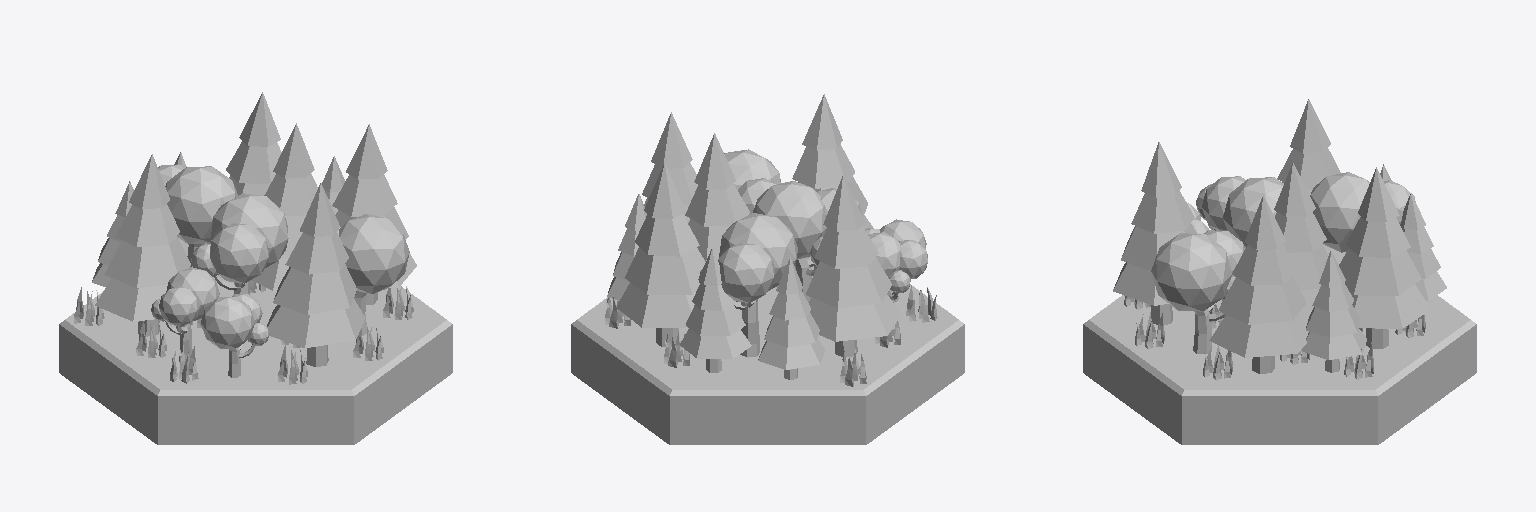
Rendered from forrest3.obj.
The picture shows the model from 3 angles: view 1: azimuth 30°, elevation 25°; view 2: azimuth 150°, elevation 25°; view 3: azimuth 270°, elevation 25°; orthographic projection.
Parts seen in each view (by area): view 1: Forest_Tile, Tree_0_1.002, Tree_0_1.001, Tree_1_1.001, Tree_1_1.002, Tree_1_1, Tree_0_1.003, Tree_0_1.004, Tree_0_1, Tree_1_0.001, Tree_1_0, Tree_0_0.002 (+7 smaller); view 2: Forest_Tile, Tree_0_1.001, Tree_0_1, Tree_1_1, Tree_0_0.001, Tree_0_0.002, Tree_0_1.004, Tree_1_1.001, Tree_0_1.002, Tree_0_1.003, Tree_1_0, Tree_1_1.002 (+5 smaller); view 3: Forest_Tile, Tree_0_1.003, Tree_0_1, Tree_1_1.002, Tree_0_1.002, Tree_0_0, Tree_0_1.004, Tree_1_1, Tree_1_1.001, Tree_0_1.001, Tree_0_0.001, Grass.017 (+2 smaller).
Boxes of the visible parts, x1,y1,x2,y2 form: Forest_Tile: [59, 275, 452, 444]; Tree_0_1.002: [267, 183, 364, 366]; Tree_0_1.001: [95, 154, 190, 336]; Tree_1_1.001: [191, 193, 288, 294]; Tree_1_1.002: [337, 214, 409, 335]; Tree_1_1: [158, 165, 237, 266]; Tree_0_1.003: [332, 124, 416, 304]; Tree_0_1.004: [252, 123, 317, 290]; Tree_0_1: [226, 92, 281, 195]; Tree_1_0.001: [201, 294, 269, 377]; Tree_1_0: [151, 267, 219, 362]; Tree_0_0.002: [92, 181, 133, 286]; Forest_Tile: [571, 266, 964, 444]; Tree_0_1.001: [806, 175, 901, 356]; Tree_0_1: [616, 163, 705, 346]; Tree_1_1: [699, 213, 797, 357]; Tree_0_0.001: [680, 248, 751, 372]; Tree_0_0.002: [758, 257, 825, 379]; Tree_0_1.004: [685, 133, 749, 261]; Tree_1_1.001: [753, 181, 861, 302]; Tree_0_1.002: [792, 94, 872, 268]; Tree_0_1.003: [642, 112, 697, 222]; Tree_1_0: [868, 232, 927, 302]; Tree_1_1.002: [724, 149, 780, 214]; Forest_Tile: [1083, 257, 1476, 444]; Tree_0_1.003: [1209, 195, 1308, 373]; Tree_0_1: [1339, 167, 1430, 348]; Tree_1_1.002: [1151, 230, 1244, 353]; Tree_0_1.002: [1113, 142, 1196, 324]; Tree_0_0: [1301, 251, 1366, 372]; Tree_0_1.004: [1274, 163, 1327, 318]; Tree_1_1: [1310, 172, 1415, 252]; Tree_1_1.001: [1202, 176, 1283, 248]; Tree_0_1.001: [1277, 99, 1345, 256]; Tree_0_0.001: [1400, 194, 1446, 300]; Grass.017: [1135, 312, 1164, 349].
Size of the model in its own units: 1.7 by 1.29 by 1.96.